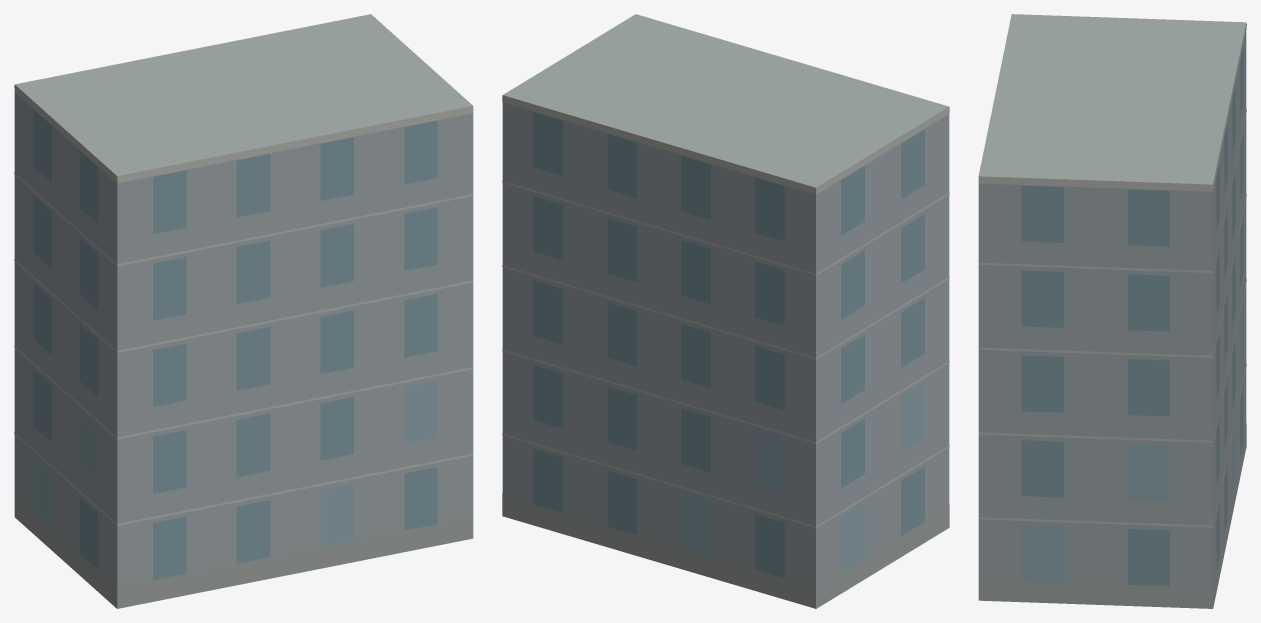
File: survey-upis-32557349.glb
3 renders of one model, left to right at view 1: azimuth 30°, elevation 25°; view 2: azimuth 150°, elevation 25°; view 3: azimuth 270°, elevation 25°, orthographic. The views are drawn at different scales.
Parts seen in each view (by area): view 1: survey-upis-32557349.tmp; view 2: survey-upis-32557349.tmp; view 3: survey-upis-32557349.tmp.
Boxes of the visible parts, left/top/right/bottom form: survey-upis-32557349.tmp: left=14, top=14, right=473, bottom=608; survey-upis-32557349.tmp: left=502, top=14, right=949, bottom=608; survey-upis-32557349.tmp: left=978, top=14, right=1246, bottom=608.
Bounding box in the file's own units: 12.44 × 14.4 × 8.27.
